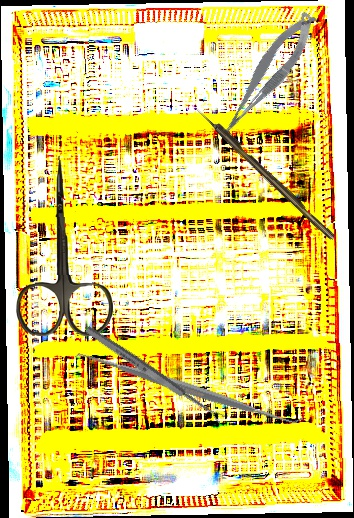Hook Surgical: (192, 102, 337, 243)
Iris Scissors: (12, 155, 114, 337)
Micro Scissor: (202, 6, 330, 145)
Spatula Surgical: (72, 339, 306, 438)
Surgical Spoon: (83, 324, 226, 425)
